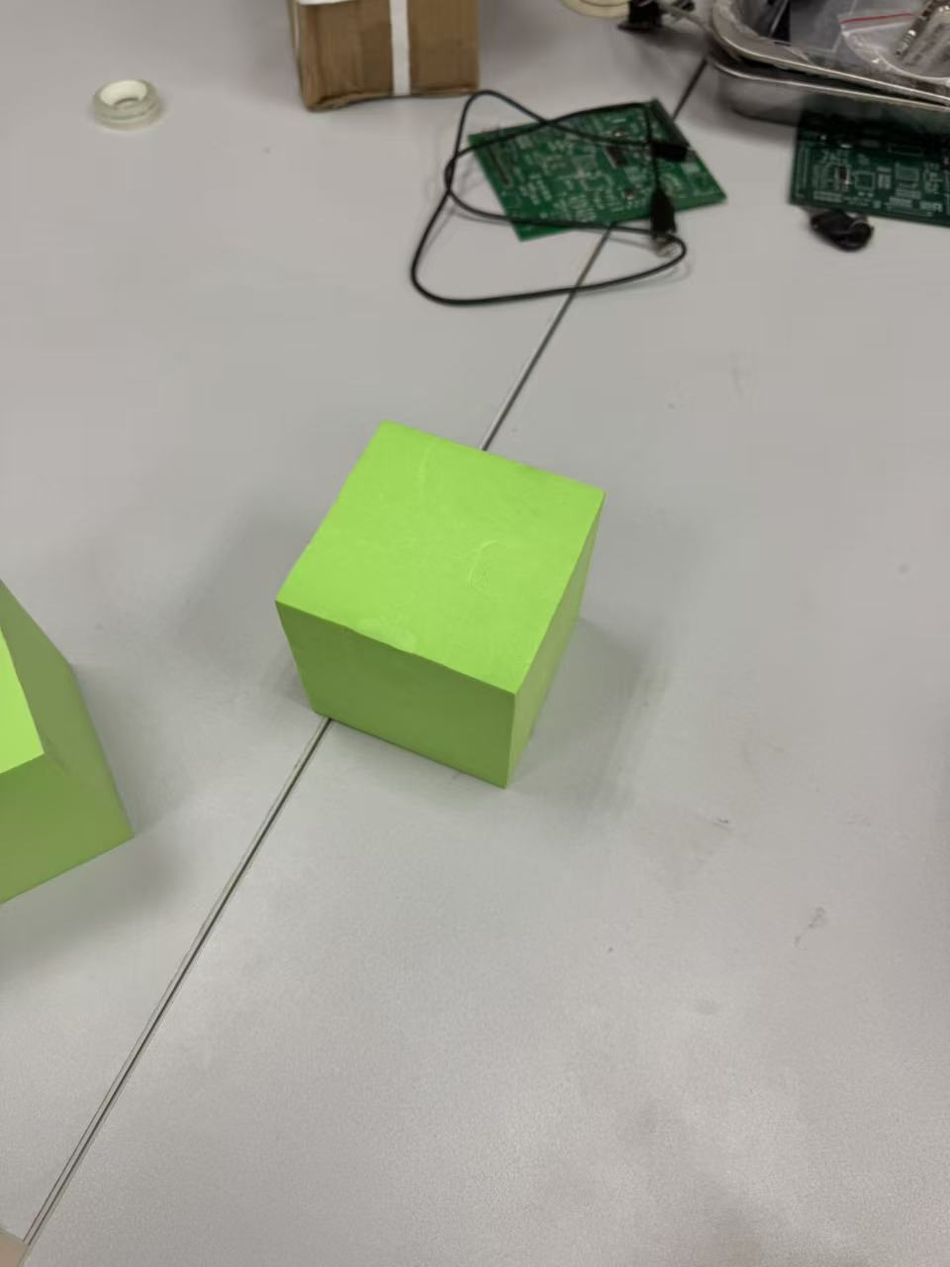green_small: (268, 420, 608, 788)
